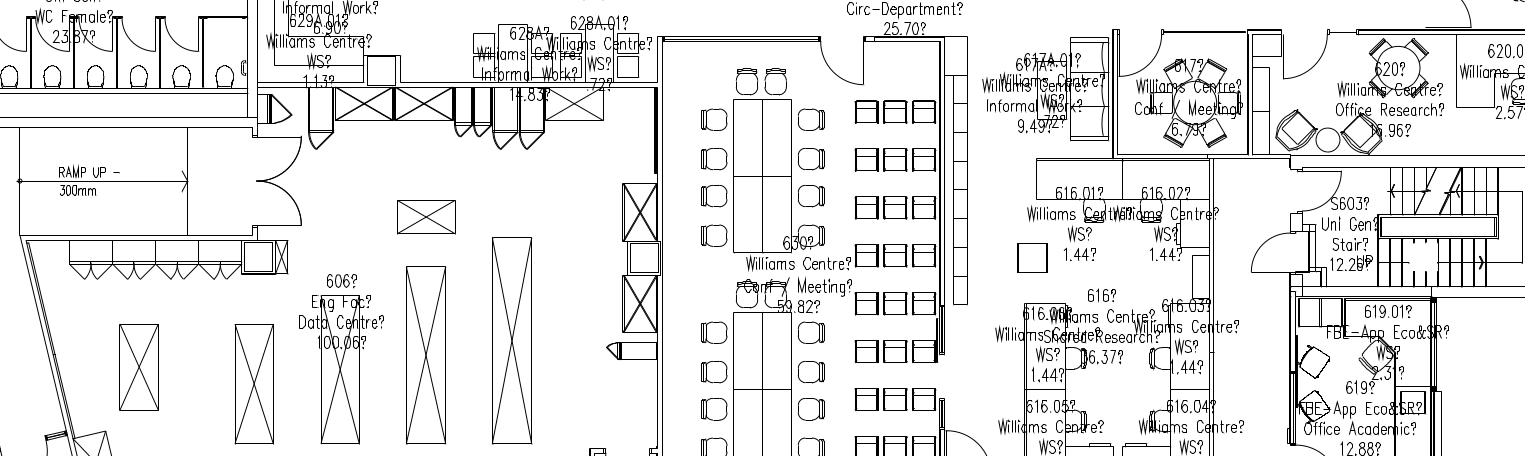door: (249, 130, 306, 232), (1235, 222, 1298, 279), (1289, 161, 1352, 218), (1280, 26, 1334, 91), (1114, 18, 1168, 83), (814, 30, 868, 95), (160, 1, 202, 60), (118, 1, 160, 60), (74, 1, 116, 60), (30, 1, 72, 60), (1, 1, 30, 61)
